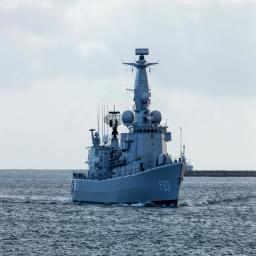Fragata: (70, 47, 191, 210)
